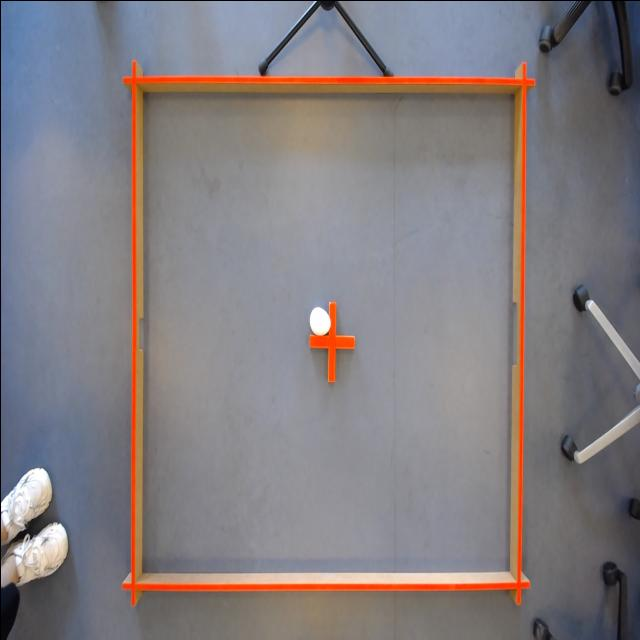cross: (307, 300, 357, 385)
egg: (306, 304, 331, 336)
